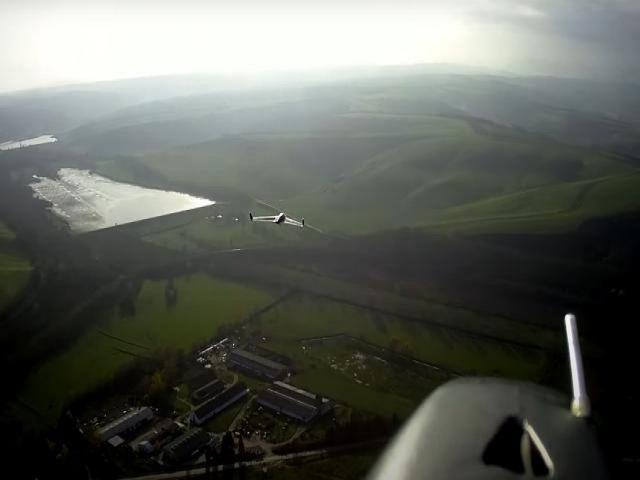iha: (252, 213, 304, 226)
